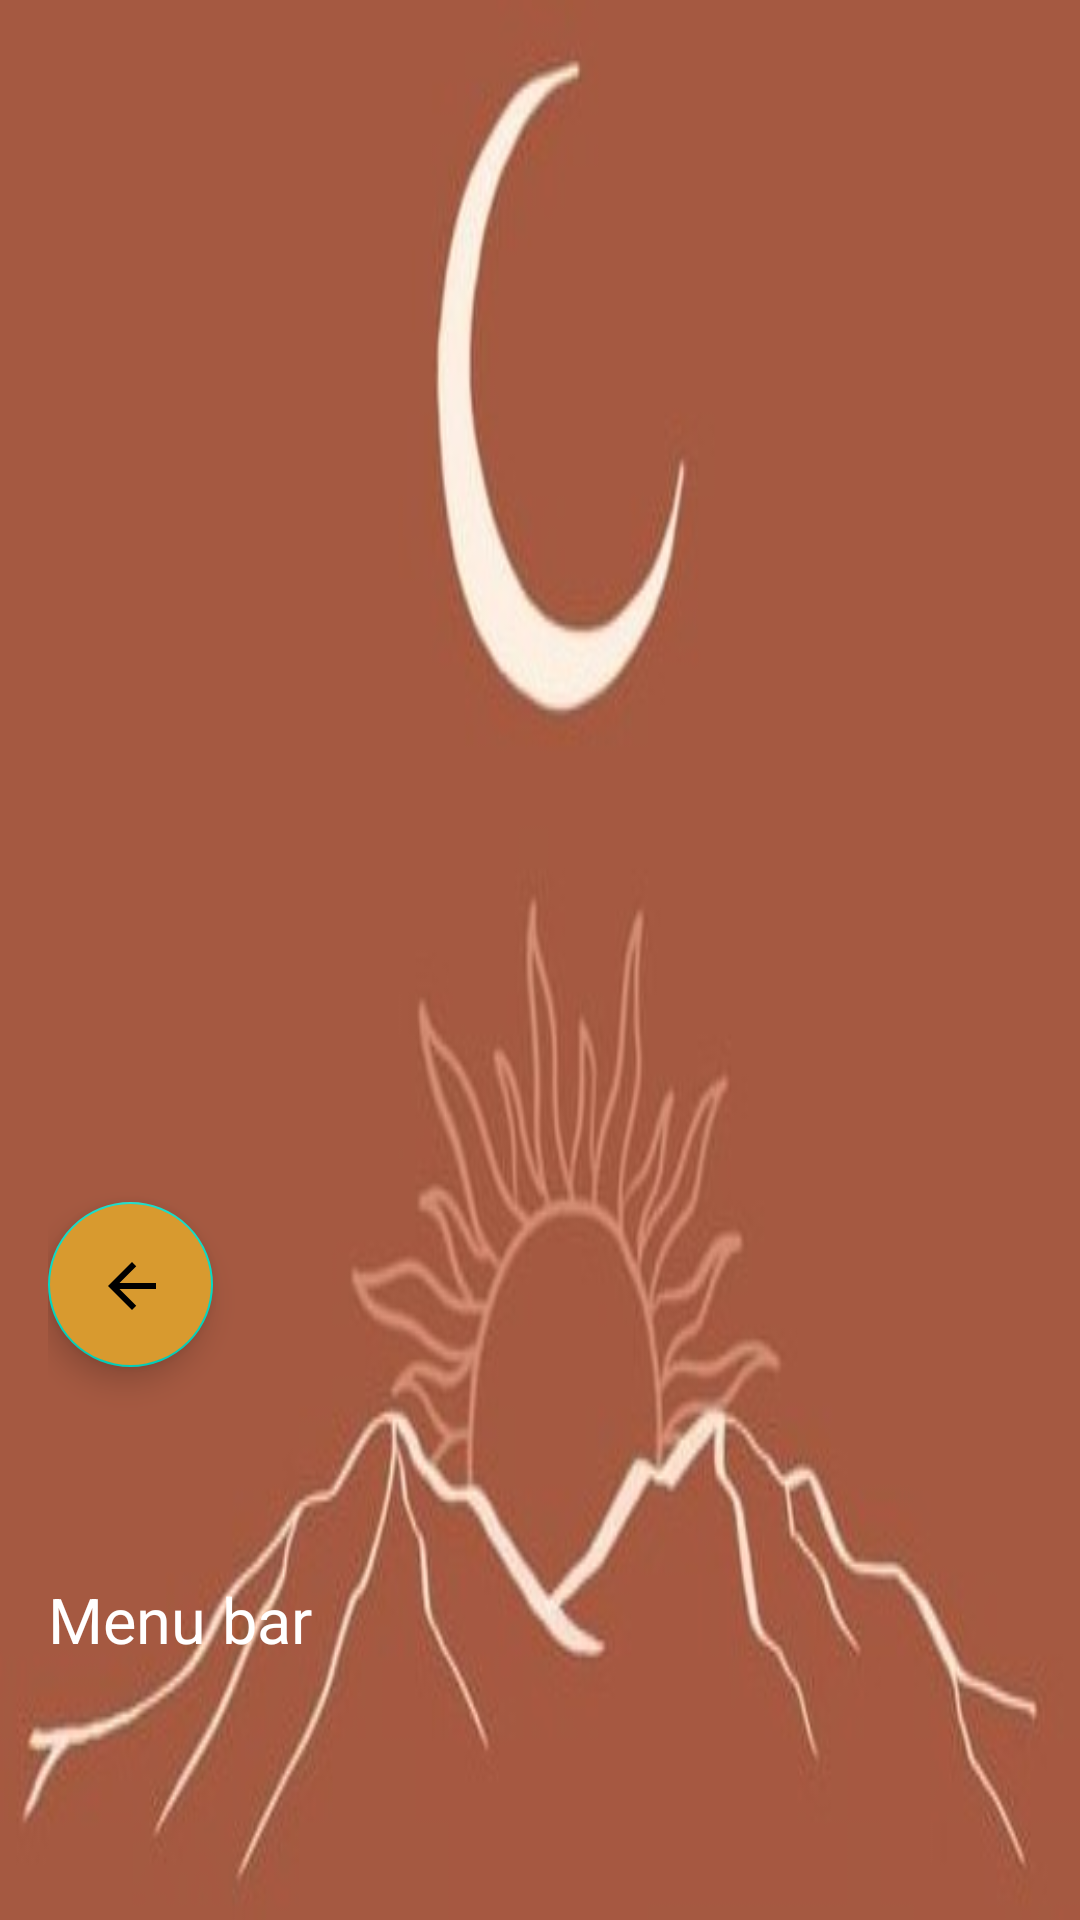

Icons on this 1080 x 1920 Android screen, each with the point to tap as (x=x, y=y):
back arrow: (x=130, y=1284)
